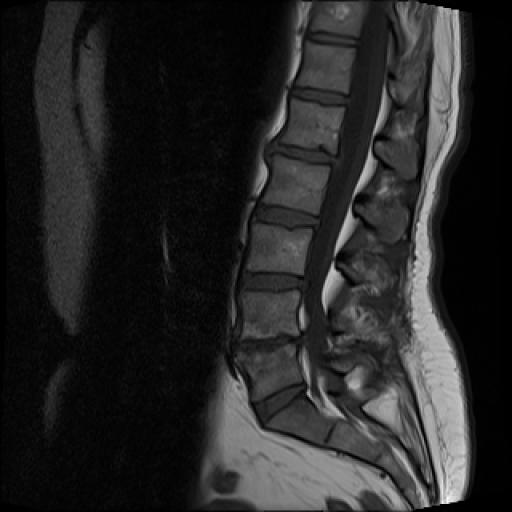L1: (280, 98, 344, 154)
L2: (262, 155, 330, 214)
L3: (247, 223, 313, 274)
L4: (242, 290, 299, 338)
L5: (234, 342, 304, 403)
S1: (265, 393, 335, 446)
